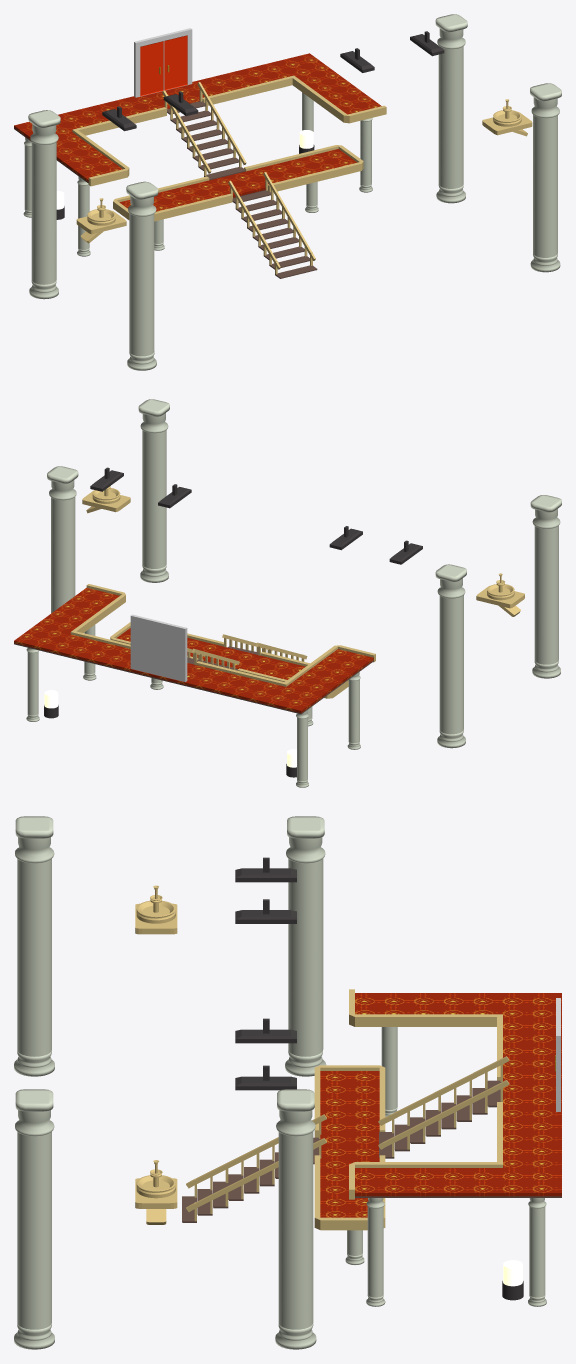
File: LevelObjects.fbx
3 views of the same model, one above another, from view 1: azimuth 30°, elevation 25°; view 2: azimuth 150°, elevation 25°; view 3: azimuth 270°, elevation 25° (orthographic). The views are drawn at different scales.
Parts seen in each view (by area): view 1: Balcony_Top, Balcony_Bottom, pillarGrand_1, pillarGrand_2, pillarGrand_4, pillarGrand_3, Door, Stairs_bot, stairs_top, PillarMed_4, PillarMed_1, PillarMed2 (+4 smaller); view 2: Balcony_Top, pillarGrand_1, pillarGrand_2, pillarGrand_3, pillarGrand_4, Door, Balcony_Bottom, PillarMed_1, PillarMed_3, PillarMed2, Stairs_bot, stairs_top; view 3: Balcony_Top, Balcony_Bottom, pillarGrand_4, pillarGrand_2, pillarGrand_3, pillarGrand_1, stairs_top, Stairs_bot, PillarMed_4, PillarMed_3, PillarMed_1, light1 (+7 smaller).
Part boxes in pixels (<box>): Balcony_Top: <box>14,53,386,186</box>; Balcony_Bottom: <box>113,145,363,221</box>; pillarGrand_1: <box>28,110,60,299</box>; pillarGrand_2: <box>126,181,158,370</box>; pillarGrand_4: <box>435,14,467,203</box>; pillarGrand_3: <box>530,83,561,272</box>; Door: <box>134,28,192,97</box>; Stairs_bot: <box>228,172,317,278</box>; stairs_top: <box>162,82,246,180</box>; PillarMed_4: <box>359,118,372,192</box>; PillarMed_1: <box>77,176,90,256</box>; PillarMed2: <box>23,137,31,217</box>; Balcony_Top: <box>14,584,375,714</box>; pillarGrand_1: <box>435,564,466,748</box>; pillarGrand_2: <box>530,495,561,678</box>; pillarGrand_3: <box>138,399,169,582</box>; pillarGrand_4: <box>47,466,78,613</box>; Door: <box>130,614,187,681</box>; Balcony_Bottom: <box>110,622,348,698</box>; PillarMed_1: <box>347,672,360,749</box>; PillarMed_3: <box>26,648,39,721</box>; PillarMed2: <box>296,710,308,787</box>; Stairs_bot: <box>222,634,307,661</box>; stairs_top: <box>187,648,239,670</box>; Balcony_Top: <box>349,989,561,1199</box>; Balcony_Bottom: <box>314,1065,385,1230</box>; pillarGrand_4: <box>275,1089,316,1349</box>; pillarGrand_2: <box>14,816,54,1076</box>; pillarGrand_3: <box>14,1089,54,1349</box>; pillarGrand_1: <box>285,816,326,1076</box>; stairs_top: <box>378,1056,509,1158</box>; Stairs_bot: <box>182,1114,326,1222</box>; PillarMed_4: <box>366,1198,385,1306</box>; PillarMed_3: <box>528,1198,546,1306</box>; PillarMed_1: <box>381,1027,397,1116</box>; light1: <box>235,857,296,882</box>.
Size of the model in its own units: 14373 by 5626 by 11115.
